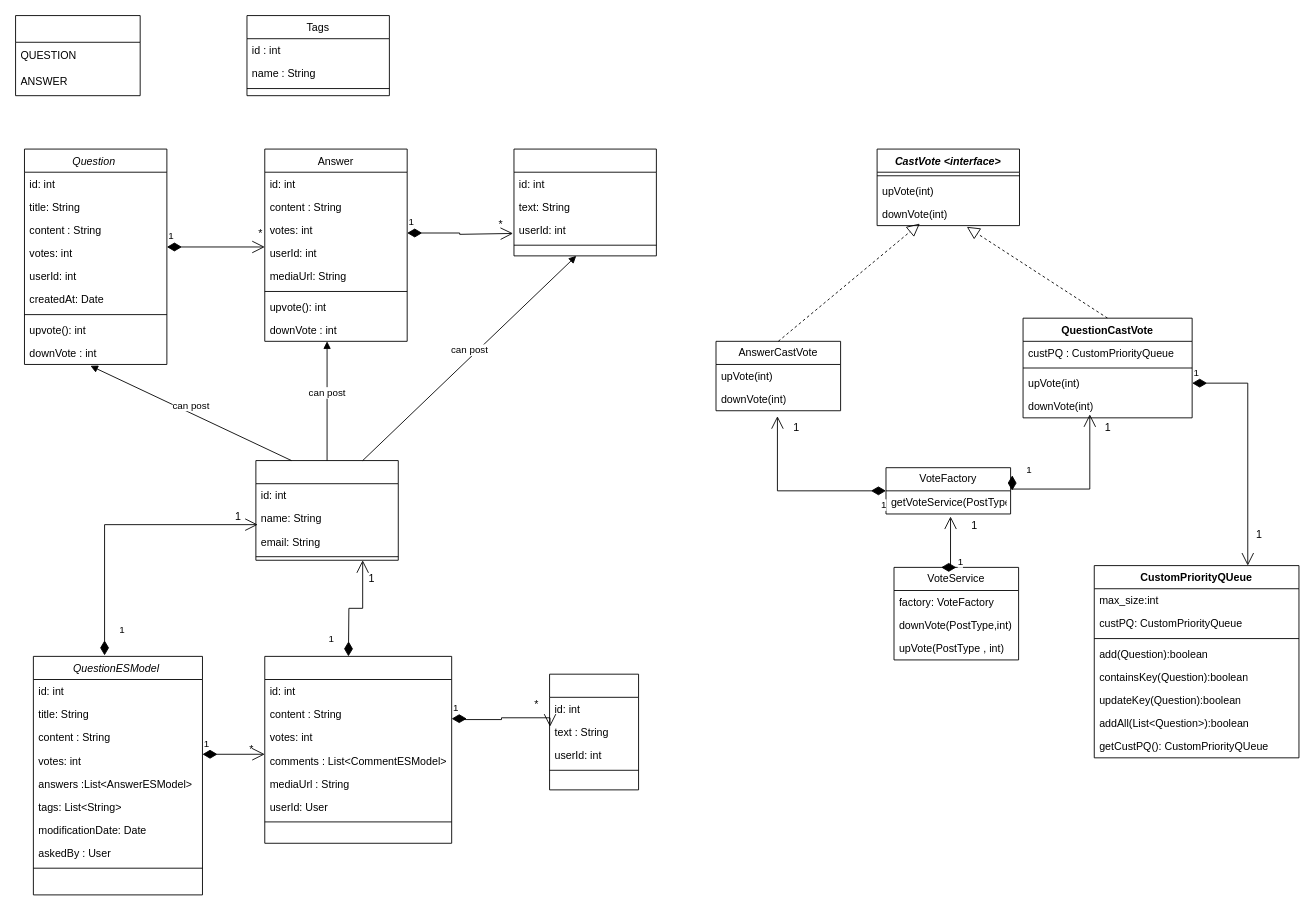
Image size: 1315x910. Some labels were removed from this diagram. The box of each missing label's shape, as (x1, y1, x2, y2) in pixels:
AnswerESModel: (264, 655, 452, 843)
Comment: (513, 148, 656, 256)
CommentESModel: (549, 673, 639, 790)
PostType <<ENUM>>: (15, 15, 140, 96)
User: (255, 460, 398, 560)
